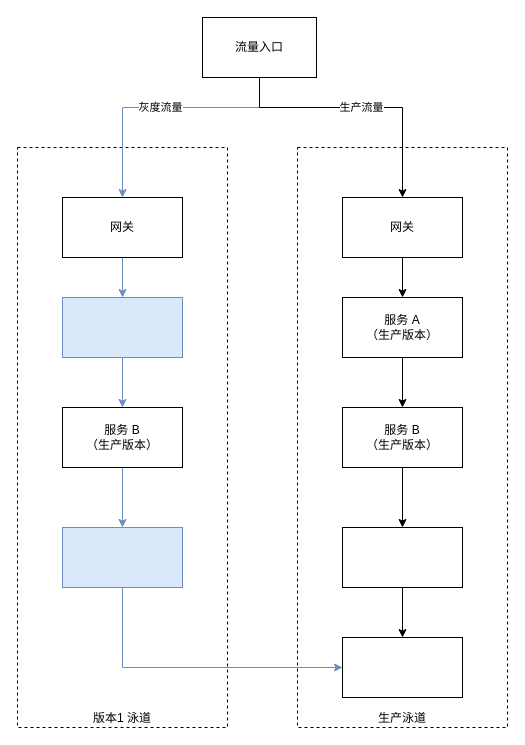
The diagram is 525 pixels wide and 745 high, and some of its shapes have lost their labels. The centre of each missing label's shape, as x and y in pixels:
服务 A （版本1）: the point at 122,327
服务 C （版本1）: the point at 122,557
服务 C （生产版本）: the point at 402,557
服务 D （生产版本）: the point at 402,667
